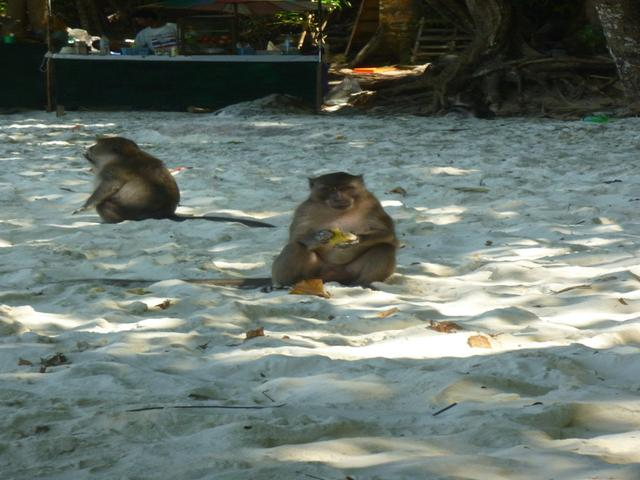monkey: (46, 119, 292, 254), (237, 142, 408, 332)
